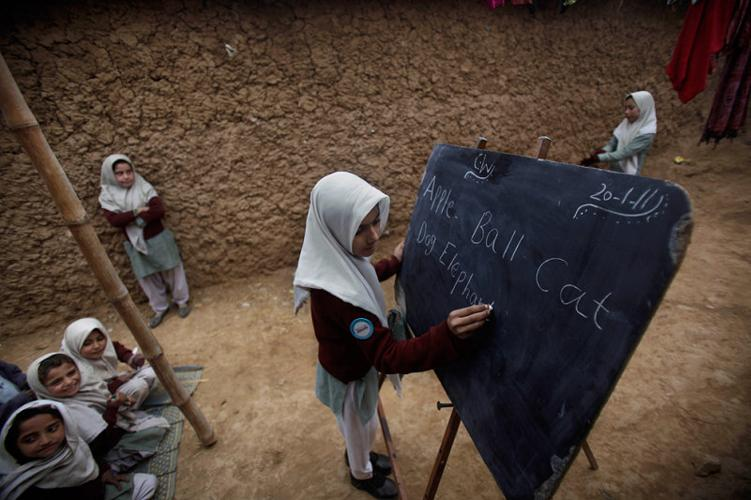person: (295, 171, 491, 500)
